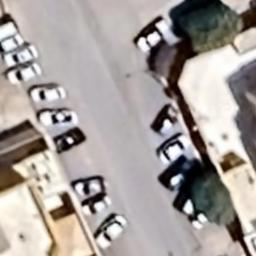sedan: (136, 15, 170, 55), (96, 212, 126, 250), (2, 42, 42, 68), (50, 126, 88, 152), (157, 132, 190, 160), (6, 64, 47, 82), (74, 175, 108, 196), (40, 108, 78, 126), (80, 195, 108, 215), (32, 85, 66, 101)
